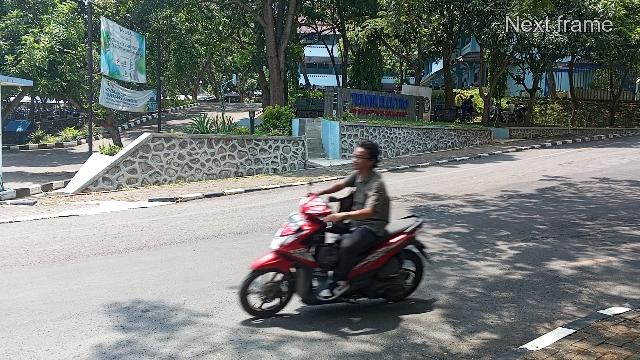motor: (240, 178, 436, 318)
non-helm: (353, 140, 381, 173)
